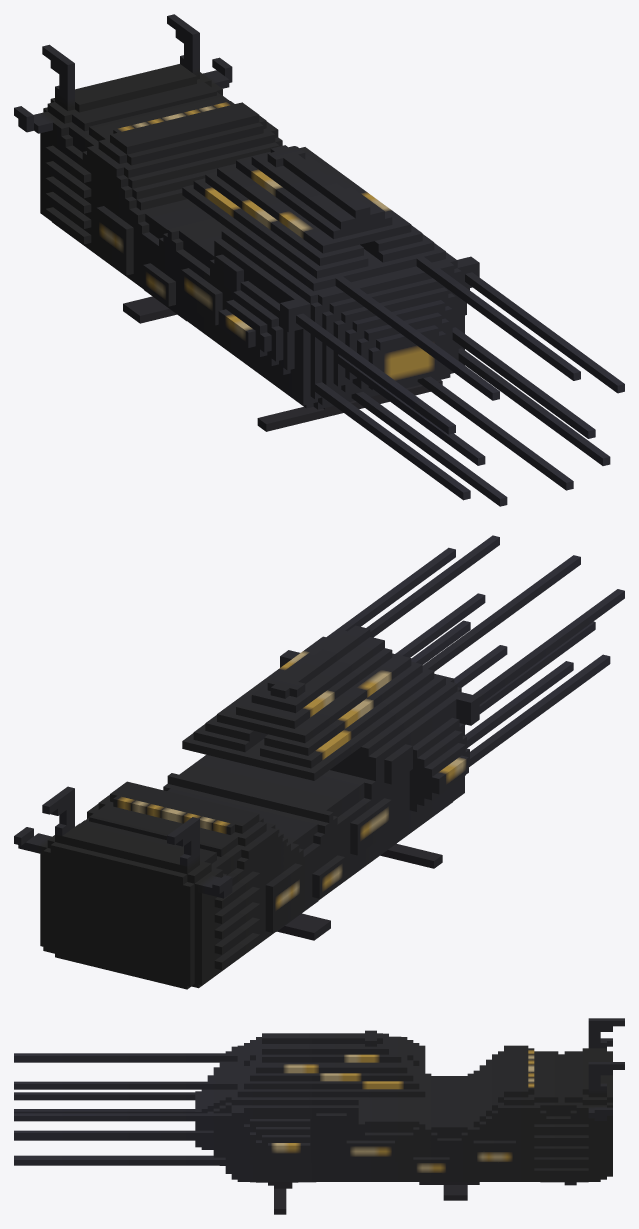
Rendered from SpaceMadness.fbx.
3 renders of one model, top to bottom at view 1: azimuth 30°, elevation 25°; view 2: azimuth 150°, elevation 25°; view 3: azimuth 270°, elevation 25°, orthographic. The views are drawn at different scales.
Visible parts, largest first — view 1: Matrix; view 2: Matrix; view 3: Matrix.
Part boxes in pixels (x1,y1,x2,y2): Matrix: (14, 14, 624, 506); Matrix: (14, 535, 624, 989); Matrix: (14, 1018, 624, 1214).
Bounding box in the file's own units: 30 × 27 × 101.
